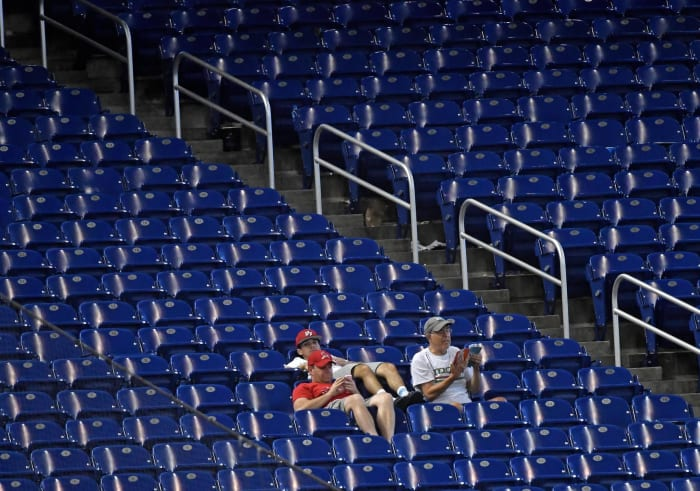Person: (412, 316, 484, 401), (290, 350, 361, 411)
